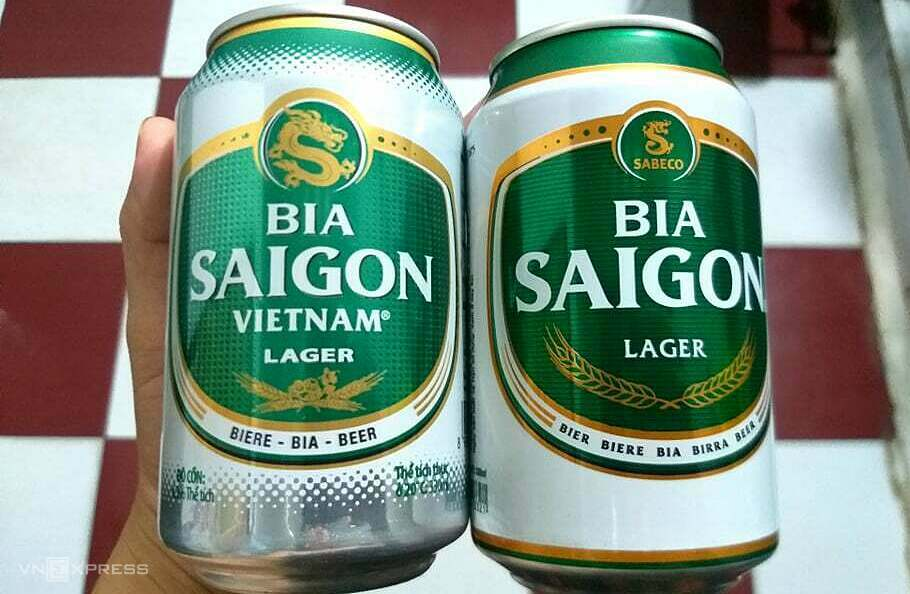biasaigon: (511, 197, 764, 315), (189, 201, 433, 305)
